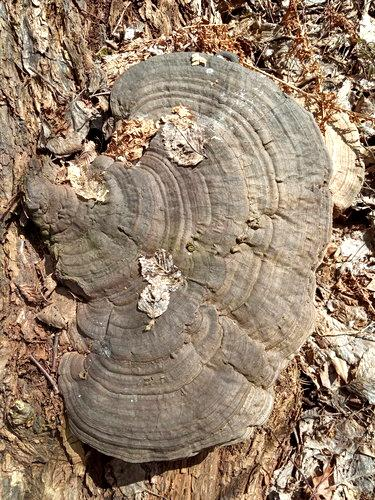Ganoderma - Fruit Body: (44, 50, 339, 471)
